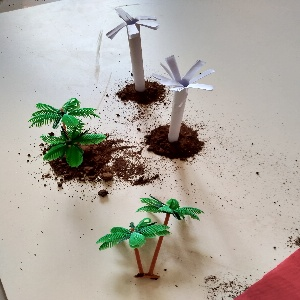plant: (94, 194, 186, 285), (30, 96, 102, 180)
weed: (144, 54, 210, 157), (104, 5, 161, 105)
